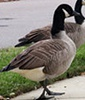goose: (3, 4, 85, 99)
